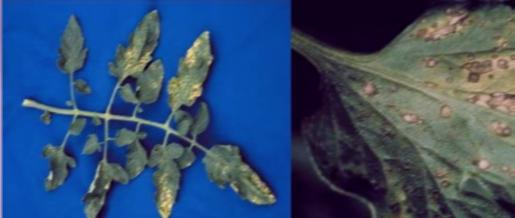Tomato Septoria leaf spot: (306, 4, 515, 217), (201, 130, 279, 211), (107, 6, 183, 80), (160, 29, 218, 112), (145, 131, 189, 218)
